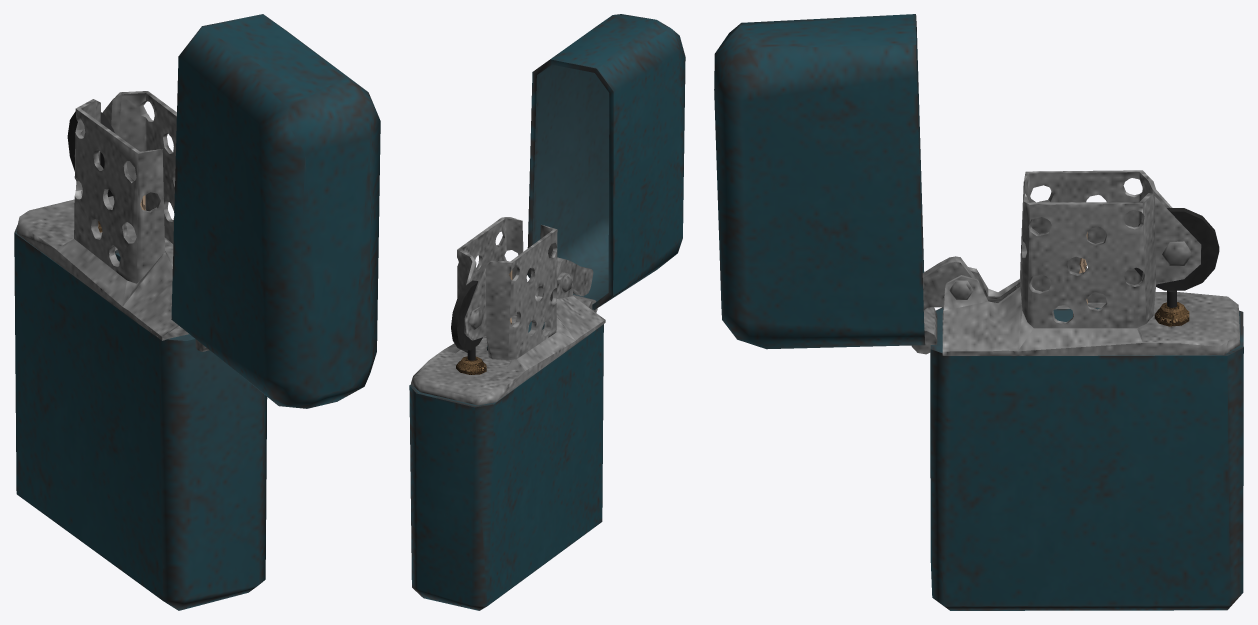
File: zippo_lighter_ps1.glb
3 views of the same model, side by side, from view 1: azimuth 30°, elevation 25°; view 2: azimuth 150°, elevation 25°; view 3: azimuth 270°, elevation 25° (orthographic). The views are drawn at different scales.
Visible parts, largest first — view 1: Cube.004, Cube, Cube.001, Cylinder.002; view 2: Cube, Cube.004, Cube.001, Cylinder.002, Cube.002, Cylinder.003; view 3: Cube, Cube.004, Cube.001, Cylinder.002, Cube.002, Cylinder.003.
Part boxes in pixels (box(x1,y1,x2,y2)): Cube.004: box(171, 14, 380, 408); Cube: box(14, 225, 267, 610); Cube.001: box(17, 91, 188, 340); Cylinder.002: box(67, 111, 114, 196); Cube: box(409, 324, 603, 610); Cube.004: box(527, 14, 685, 309); Cube.001: box(411, 217, 605, 405); Cylinder.002: box(451, 280, 482, 350); Cube.002: box(557, 257, 593, 296); Cylinder.003: box(456, 347, 486, 374); Cube: box(930, 307, 1243, 610); Cube.004: box(714, 14, 925, 349); Cube.001: box(942, 170, 1240, 355); Cylinder.002: box(1134, 208, 1219, 290); Cube.002: box(922, 256, 976, 310); Cylinder.003: box(1154, 290, 1189, 326).
Bounding box in the file's own units: 0.7702 × 3.86 × 3.27.
Materials: 6 (6 with a texture image).
